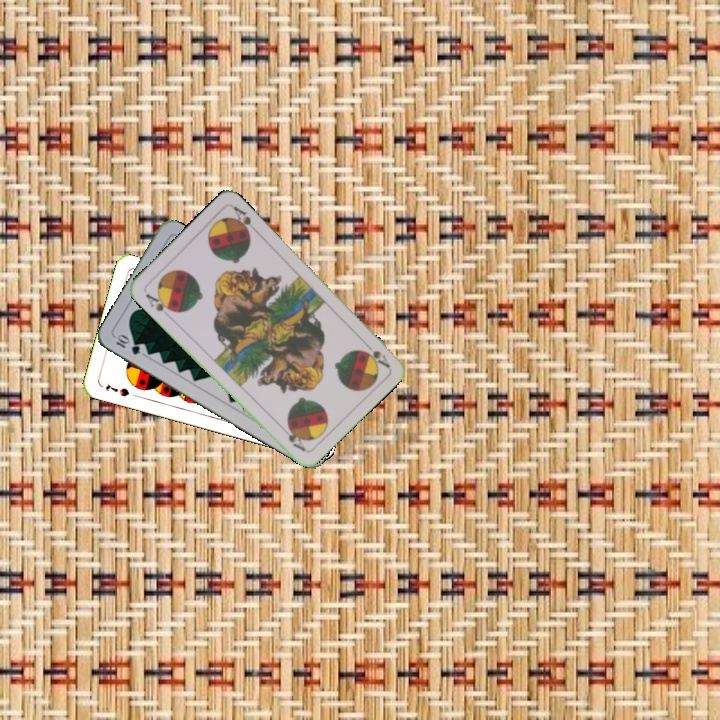G10: (112, 331, 143, 358)
S7: (101, 380, 132, 399)
SA: (359, 337, 393, 370), (141, 289, 177, 315)
